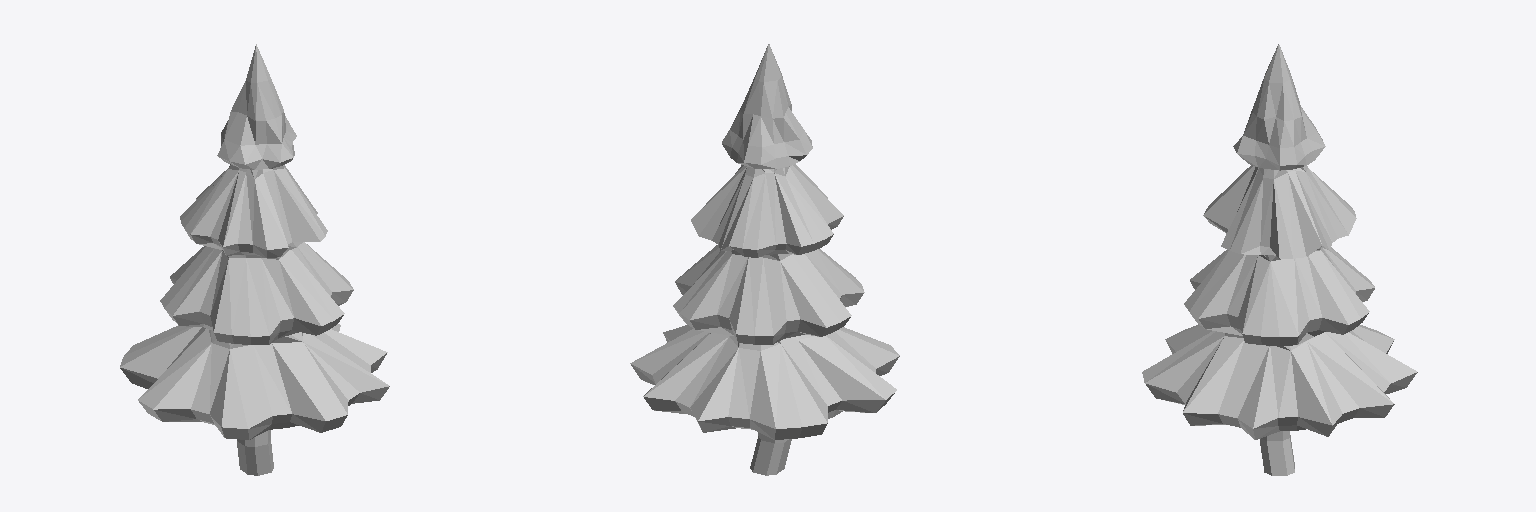
Rendered from tree9.obj.
3 renders of one model, left to right at view 1: azimuth 30°, elevation 25°; view 2: azimuth 150°, elevation 25°; view 3: azimuth 270°, elevation 25°, orthographic.
Visible parts, largest first — view 1: _9_tree; view 2: _9_tree; view 3: _9_tree.
Part boxes in pixels (x1,y1,x2,y2): _9_tree: (120, 44, 389, 475); _9_tree: (630, 44, 899, 475); _9_tree: (1142, 44, 1417, 475).
Bounding box in the file's own units: 0.5932 × 1.02 × 0.5989.